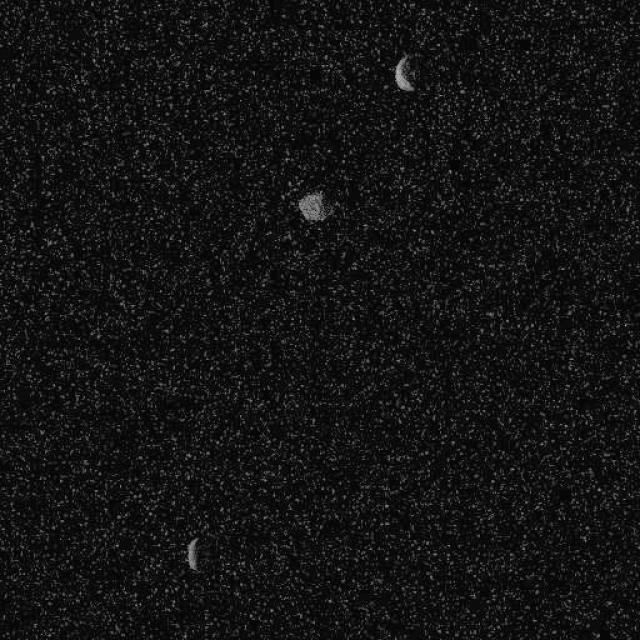D2: (296, 188, 332, 222), (392, 52, 417, 92), (185, 535, 200, 571)
